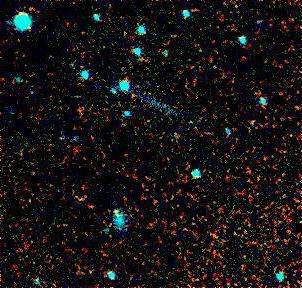star: (100, 196, 130, 226)
